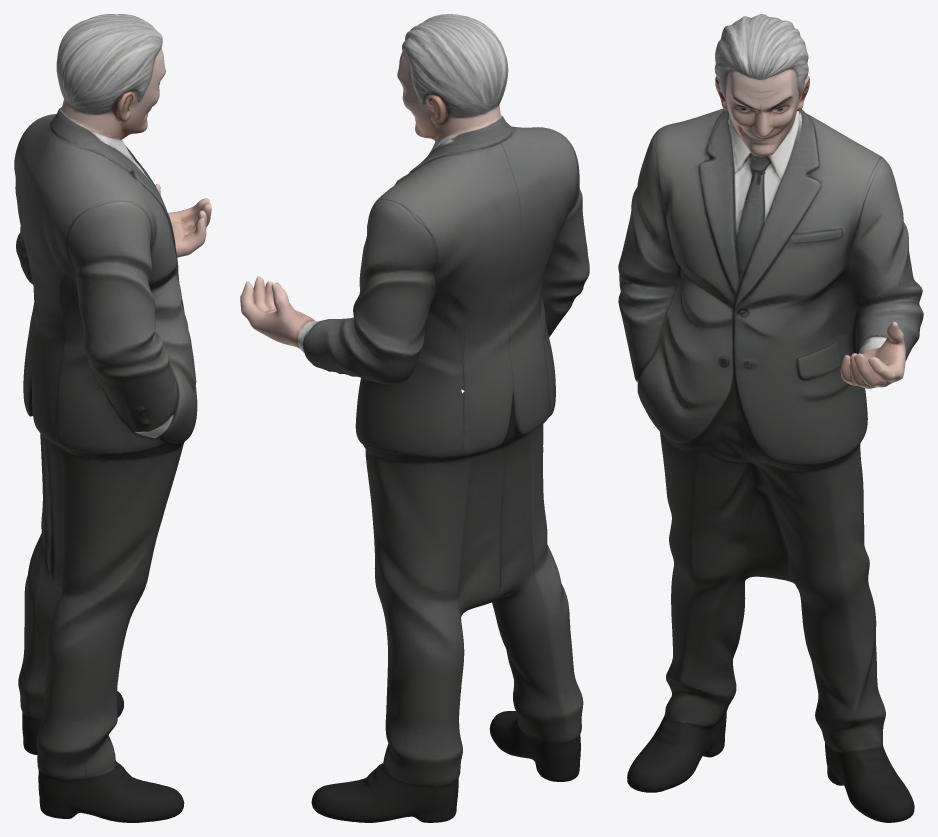
3 renders of one model, left to right at view 1: azimuth 30°, elevation 25°; view 2: azimuth 150°, elevation 25°; view 3: azimuth 270°, elevation 25°, orthographic.
Parts seen in each view (by area): view 1: tripo_node_a0c25b91-7c66-477c-980b-88708f4d2849; view 2: tripo_node_a0c25b91-7c66-477c-980b-88708f4d2849; view 3: tripo_node_a0c25b91-7c66-477c-980b-88708f4d2849.
Part boxes in pixels (x1,y1,x2,y2): tripo_node_a0c25b91-7c66-477c-980b-88708f4d2849: (14,14,211,822); tripo_node_a0c25b91-7c66-477c-980b-88708f4d2849: (240,14,589,822); tripo_node_a0c25b91-7c66-477c-980b-88708f4d2849: (618,14,923,822).
Bounding box in the file's own units: 0.3478 × 0.9999 × 0.3608.
1 material, 1 textured.
